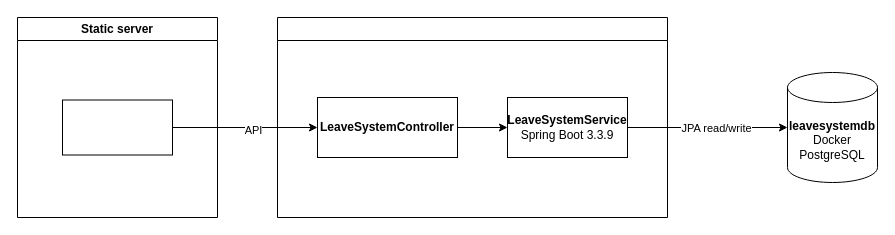
This 895x235 diagram has some shape labels left out. Each missing label, with the box of its shape:
Backend Server: (276, 16, 668, 218)
leave-system-fe Angular 18: (62, 99, 172, 155)
